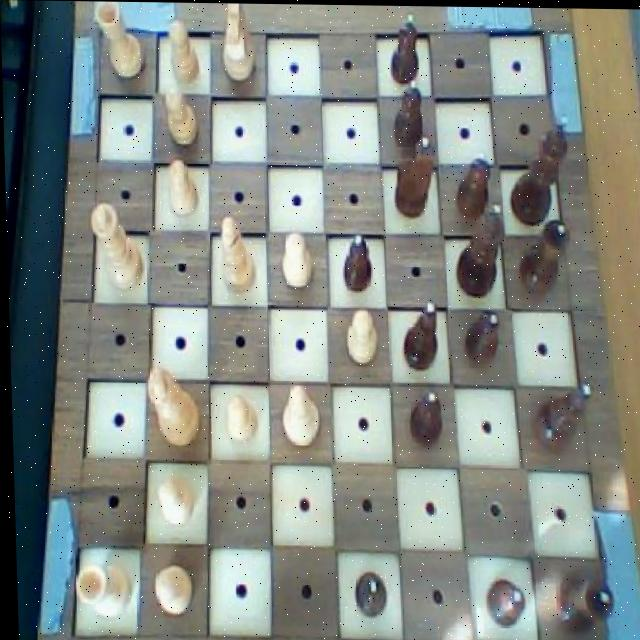bishop: (527, 374, 594, 453), (396, 297, 442, 374)
black-bishop: (504, 111, 574, 230)
black-king: (385, 131, 442, 221)
black-knight: (446, 143, 496, 222), (382, 9, 427, 86), (402, 381, 449, 450), (386, 74, 428, 149), (455, 302, 504, 366), (338, 225, 376, 297), (479, 570, 525, 629), (347, 564, 388, 619)
black-pawn: (450, 193, 511, 300)
black-queen: (514, 217, 573, 299), (547, 566, 615, 635)
black-rook: (216, 210, 257, 297), (276, 377, 324, 449)
white-bishop: (138, 359, 201, 448)
white-king: (214, 2, 262, 89)
white-knight: (163, 11, 205, 87), (275, 225, 318, 293), (148, 557, 193, 621), (163, 154, 204, 222), (160, 80, 199, 150), (216, 389, 260, 448), (339, 309, 382, 368), (152, 471, 195, 528)
white-pawn: (86, 196, 145, 298)
white-queen: (90, 1, 151, 86), (67, 559, 130, 620)
